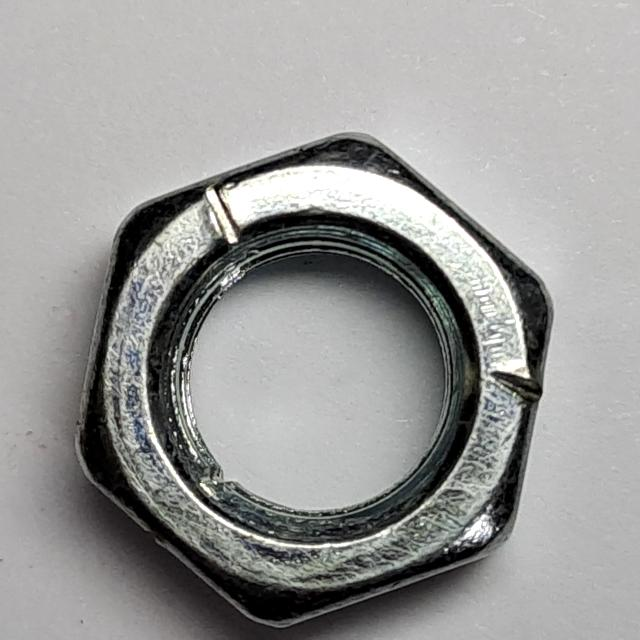Scratches: (66, 123, 570, 640)
